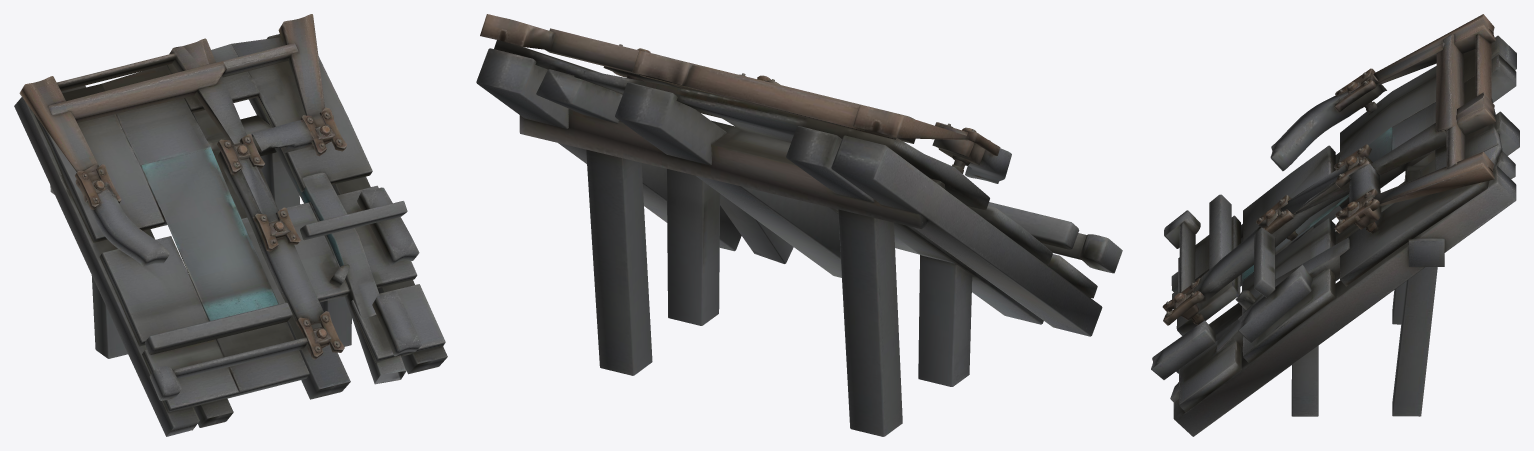
The model's file is selected.fbx.
3 renders of one model, left to right at view 1: azimuth 30°, elevation 25°; view 2: azimuth 150°, elevation 25°; view 3: azimuth 270°, elevation 25°, orthographic. The views are drawn at different scales.
Parts seen in each view (by area): view 1: tripo_node_bcfd4b59-0f7d-4413-bc14-cf86ca9df0fa; view 2: tripo_node_bcfd4b59-0f7d-4413-bc14-cf86ca9df0fa; view 3: tripo_node_bcfd4b59-0f7d-4413-bc14-cf86ca9df0fa.
Boxes of the visible parts, <box> form: tripo_node_bcfd4b59-0f7d-4413-bc14-cf86ca9df0fa: <box>14,14,447,436</box>; tripo_node_bcfd4b59-0f7d-4413-bc14-cf86ca9df0fa: <box>476,14,1122,436</box>; tripo_node_bcfd4b59-0f7d-4413-bc14-cf86ca9df0fa: <box>1151,14,1519,436</box>.
Size of the model in its own units: 0.9995 by 0.8296 by 0.9995.
1 material, 1 textured.
